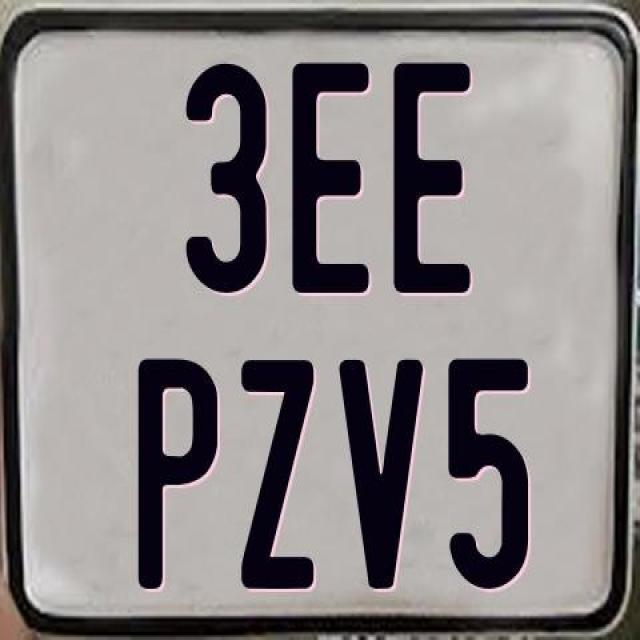3: (184, 59, 274, 297)
5: (448, 355, 528, 593)
E: (289, 58, 371, 292), (389, 58, 467, 293)
P: (137, 356, 223, 591)
V: (337, 355, 423, 584)
Z: (240, 357, 318, 594)
